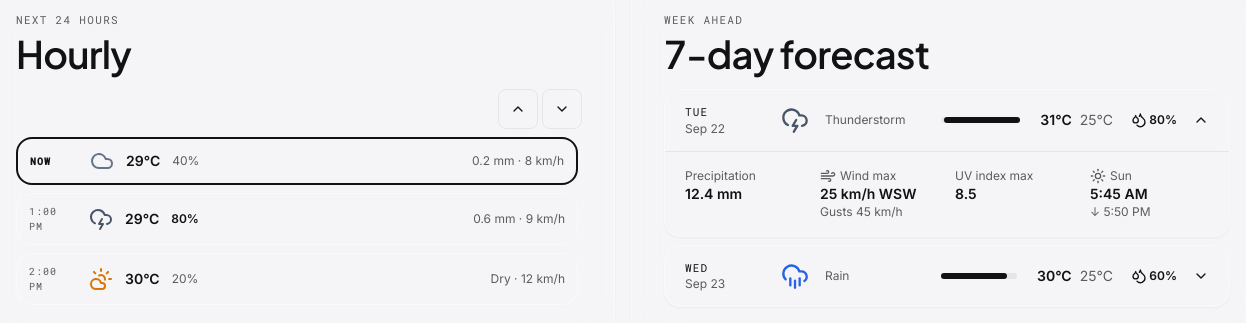
Test: ForecastSection › expands a day to reveal precipitation, wind, UV, and sun details
The width and height of the screenshot is (1246, 323).
Expected: the heading "7-day forecast" is shown, [664,30,929,77]
Expected: the text "12.4 mm" is shown, [685,184,742,202]
Click the button "Wed Sep 23 Rain 30°C 25°C 60%": (947, 276) [665,246,1229,306]
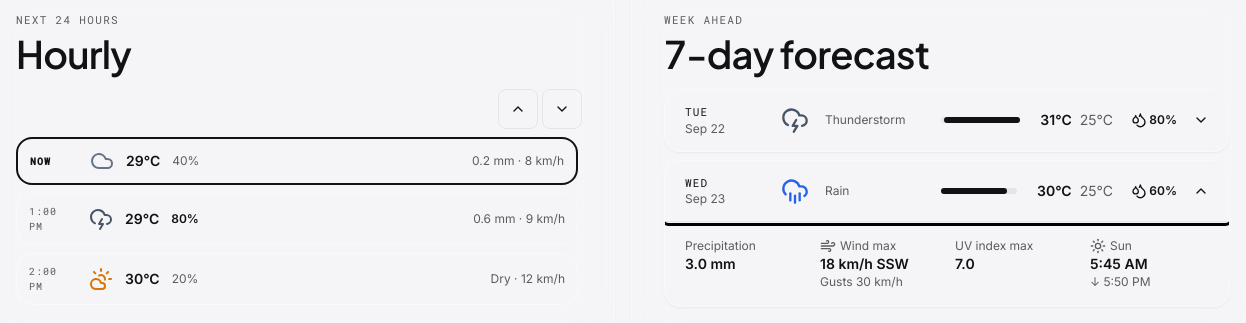
Expected: the button "Wed Sep 23 Rain 30°C 25°C 60%" is expanded, [665,160,1229,221]
Expected: the text "3.0 mm" is shown, [685,255,736,272]
